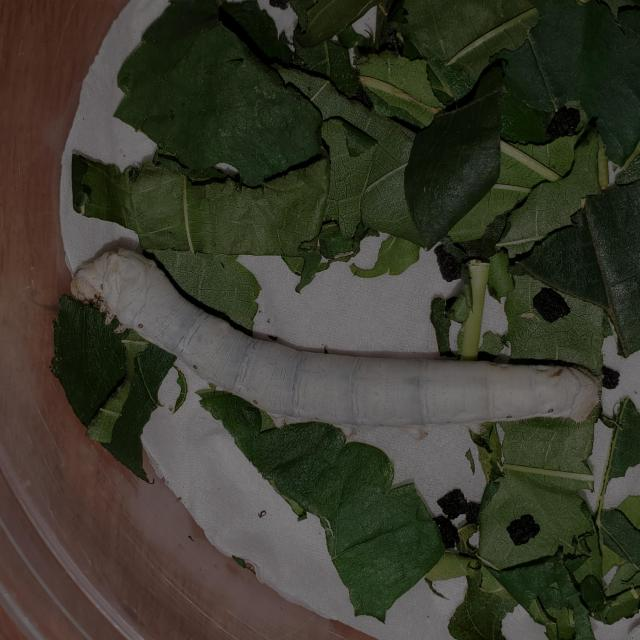Healthy: (53, 216, 618, 465)
